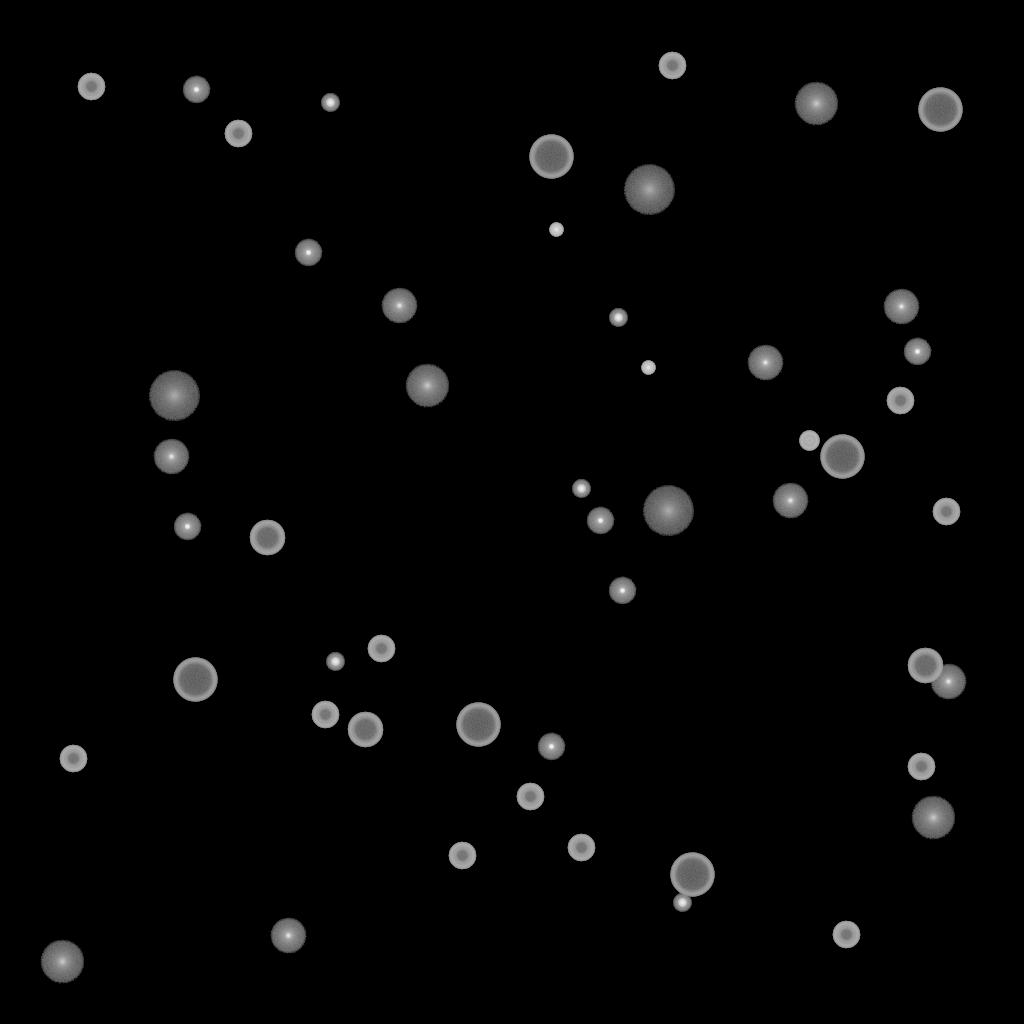depth:-10: (294, 239, 322, 267), (903, 338, 931, 366), (586, 507, 614, 535), (537, 733, 565, 761), (182, 76, 210, 104), (173, 513, 201, 541), (608, 577, 636, 605)
depth:-20: (326, 653, 344, 671), (321, 94, 339, 112), (609, 309, 627, 327), (572, 480, 590, 498), (673, 894, 691, 912)
depth:-30: (549, 223, 563, 237), (641, 361, 655, 375)
depth:-40: (799, 431, 819, 451)
depth:-50: (448, 842, 476, 870), (832, 921, 860, 949), (567, 834, 595, 862), (886, 387, 914, 415), (59, 745, 87, 773), (932, 498, 960, 526), (658, 52, 686, 80), (367, 635, 395, 663), (516, 783, 544, 811), (907, 753, 935, 781), (311, 701, 339, 729), (77, 73, 105, 101), (224, 120, 252, 148)
depth:-60: (907, 648, 943, 684), (347, 712, 383, 748), (249, 520, 285, 556)
depth:-70: (456, 703, 500, 747), (820, 435, 864, 479), (670, 853, 714, 897), (529, 135, 573, 179), (173, 658, 217, 702), (918, 88, 962, 132)
depth:0: (747, 345, 783, 381), (381, 288, 417, 324), (772, 483, 808, 519), (270, 918, 306, 954), (153, 439, 189, 475), (883, 289, 919, 325), (930, 664, 966, 700)
depth:10: (911, 796, 955, 840), (405, 364, 449, 408), (794, 82, 838, 126), (40, 940, 84, 984)
depth:20: (623, 165, 675, 215), (642, 486, 694, 536), (148, 371, 200, 421)
